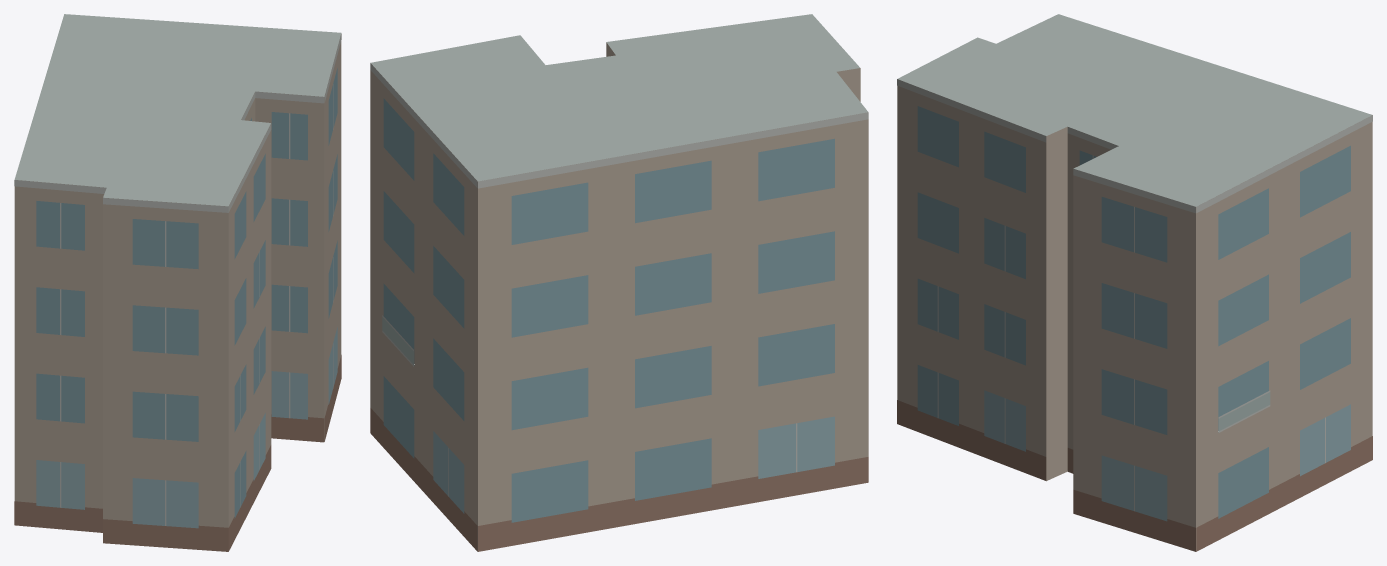
File: survey-upis-32655120.glb
3 views of the same model, side by side, from view 1: azimuth 30°, elevation 25°; view 2: azimuth 150°, elevation 25°; view 3: azimuth 270°, elevation 25° (orthographic). The views are drawn at different scales.
Parts seen in each view (by area): view 1: survey-upis-32655120.tmp; view 2: survey-upis-32655120.tmp; view 3: survey-upis-32655120.tmp.
Boxes of the visible parts, x1,y1,x2,y2 form: survey-upis-32655120.tmp: (14, 14, 341, 551); survey-upis-32655120.tmp: (370, 14, 868, 551); survey-upis-32655120.tmp: (897, 14, 1372, 551).
Size of the model in its own units: 15.36 by 12.8 by 16.
